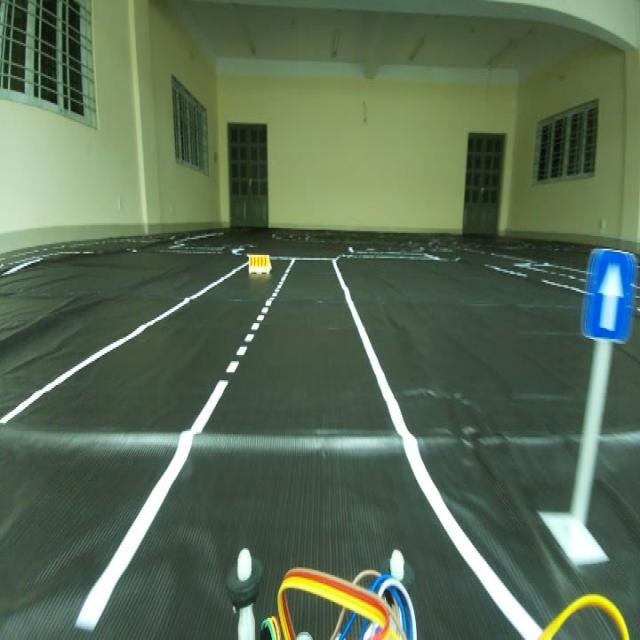onewayroad: (583, 254, 629, 342)
roadblock: (246, 250, 272, 278)
